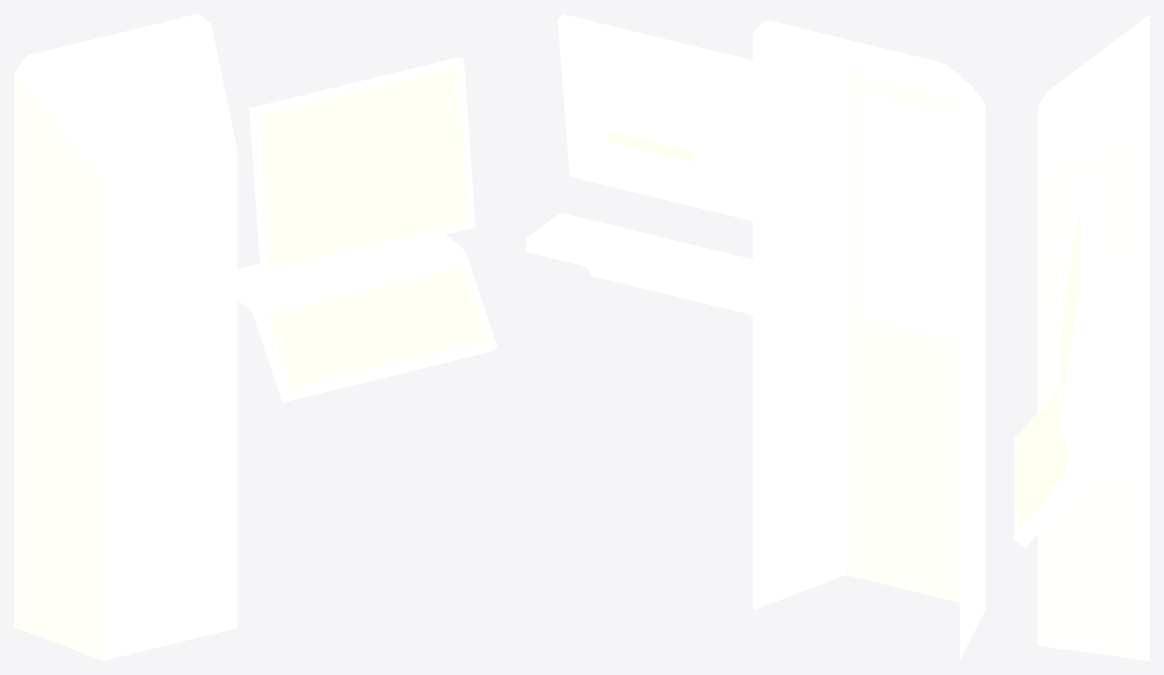
The model's file is Office_Assets_Monitoring_Screens_Console_Var_2.glb.
The picture shows the model from 3 angles, left to right: view 1: azimuth 30°, elevation 25°; view 2: azimuth 150°, elevation 25°; view 3: azimuth 270°, elevation 25°; orthographic projection. The views are drawn at different scales.
Parts seen in each view (by area): view 1: Monitoring_Screens_Console_2; view 2: Monitoring_Screens_Console_2; view 3: Monitoring_Screens_Console_2.
Boxes of the visible parts, bbox=[...] form: Monitoring_Screens_Console_2: bbox=[14, 14, 497, 660]; Monitoring_Screens_Console_2: bbox=[526, 14, 985, 659]; Monitoring_Screens_Console_2: bbox=[1014, 14, 1149, 660].
Size of the model in its own units: 0.9724 by 1.27 by 0.2806.
